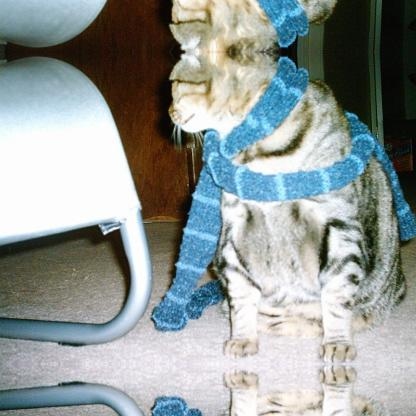Cat: (166, 52, 408, 362)
